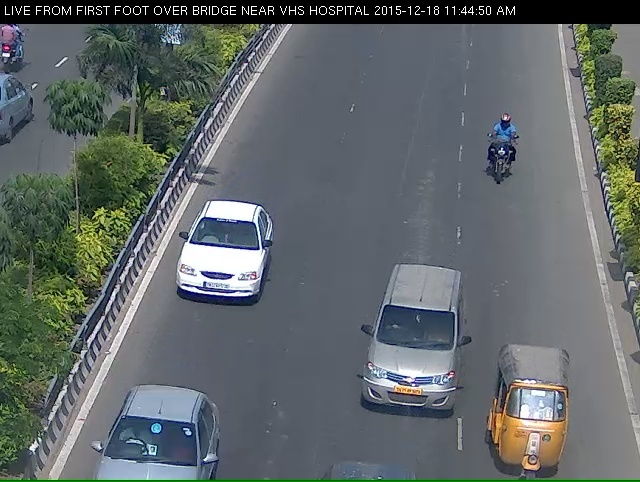Auto: (493, 348, 578, 478)
Car: (339, 249, 470, 449), (150, 208, 271, 322), (77, 409, 216, 478)
Person: (484, 121, 521, 203)
